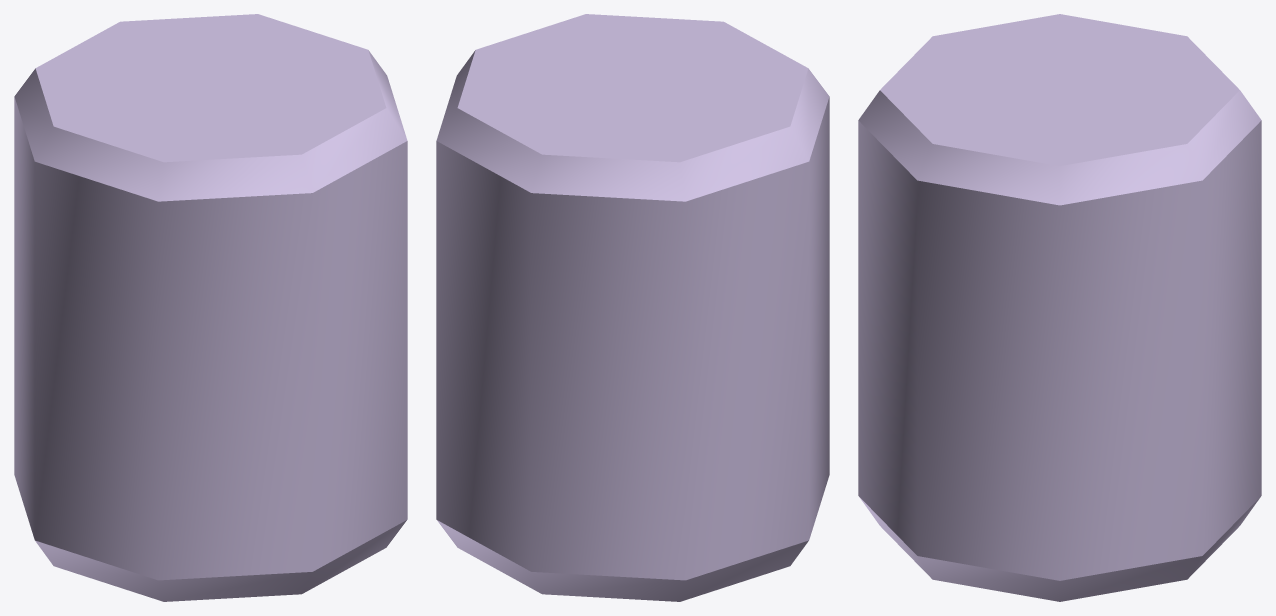
3 renders of one model, left to right at view 1: azimuth 30°, elevation 25°; view 2: azimuth 150°, elevation 25°; view 3: azimuth 270°, elevation 25°, orthographic.
Parts seen in each view (by area): view 1: Object14; view 2: Object14; view 3: Object14.
Boxes of the visible parts, left/top/right/bottom form: Object14: left=14, top=14, right=407, bottom=601; Object14: left=436, top=14, right=829, bottom=601; Object14: left=858, top=14, right=1261, bottom=601.
Bounding box in the file's own units: 95.73 × 114 × 95.73.
